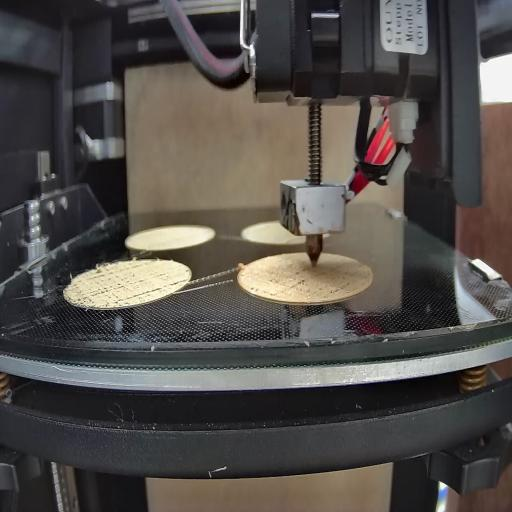under_extrusion: (77, 262, 164, 308), (250, 277, 352, 301), (170, 273, 188, 291)
